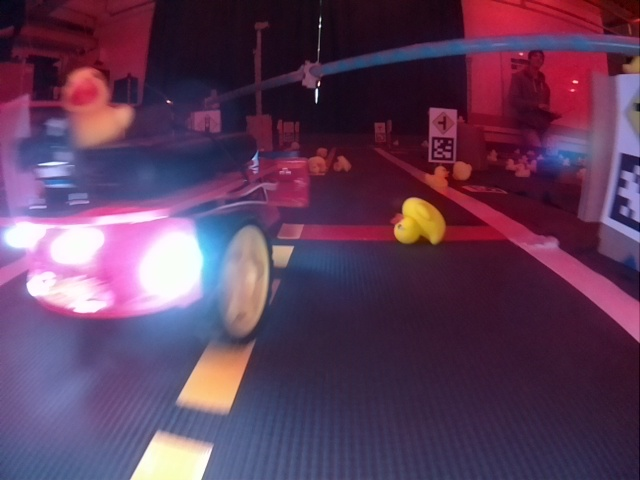Duckie: (62, 70, 133, 145), (391, 199, 444, 244), (425, 167, 449, 188), (452, 161, 471, 180)
Duckiebot: (16, 130, 282, 345)
Intersection sign: (432, 111, 454, 135)
QR code: (607, 151, 638, 236), (431, 137, 455, 160), (462, 185, 507, 193)
